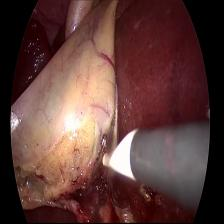Hook: (96, 124, 144, 186)
